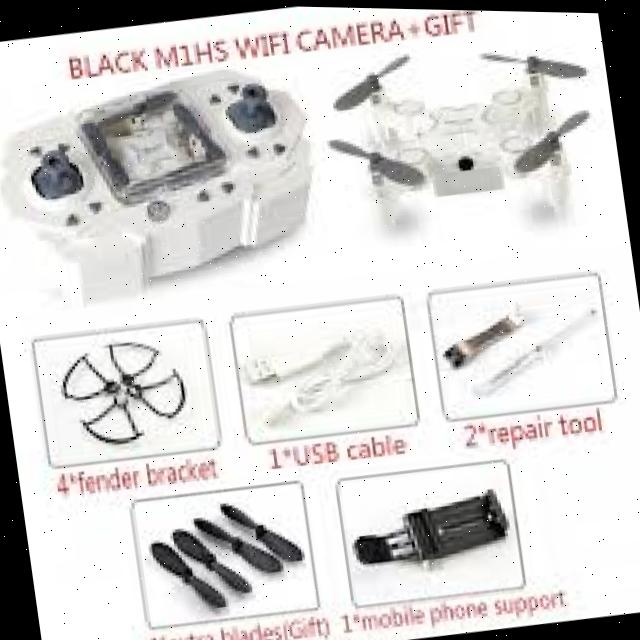drone: (321, 28, 608, 258)
